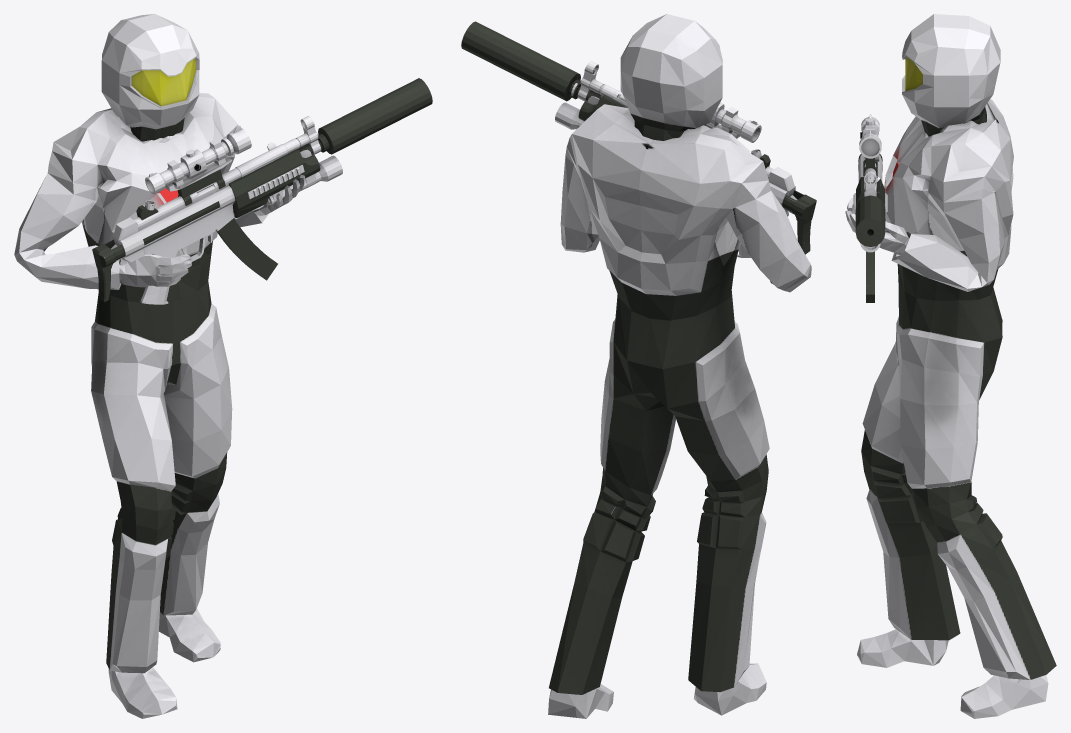
File: walk7.obj
3 views of the same model, side by side, from view 1: azimuth 30°, elevation 25°; view 2: azimuth 150°, elevation 25°; view 3: azimuth 270°, elevation 25° (orthographic). The views are drawn at different scales.
Parts seen in each view (by area): view 1: Male001Skin_001, Object001; view 2: Male001Skin_001, Object001; view 3: Male001Skin_001, Object001.
Boxes of the visible parts, x1,y1,x2,y2 form: Male001Skin_001: (14, 14, 305, 718); Object001: (92, 78, 432, 304); Male001Skin_001: (548, 14, 811, 718); Object001: (461, 21, 816, 257); Male001Skin_001: (845, 14, 1056, 718); Object001: (853, 114, 887, 302).
Size of the model in its own units: 1111 by 1892 by 550.
1 material, 1 textured.
